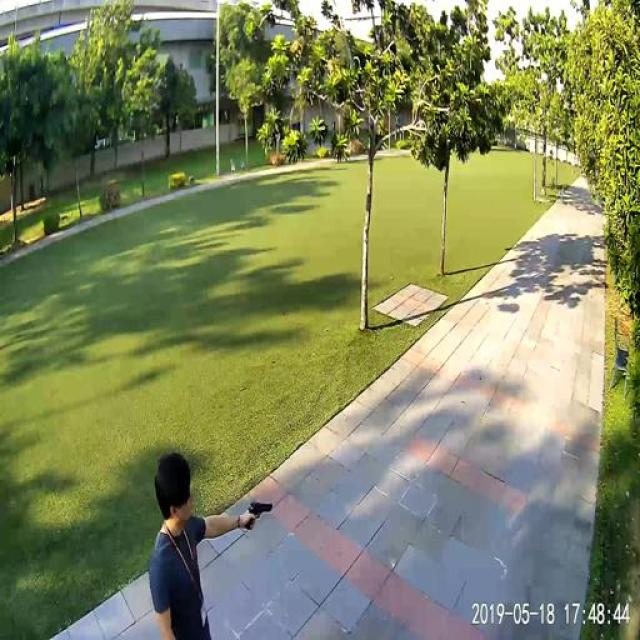senjata_api: (244, 501, 275, 532)
